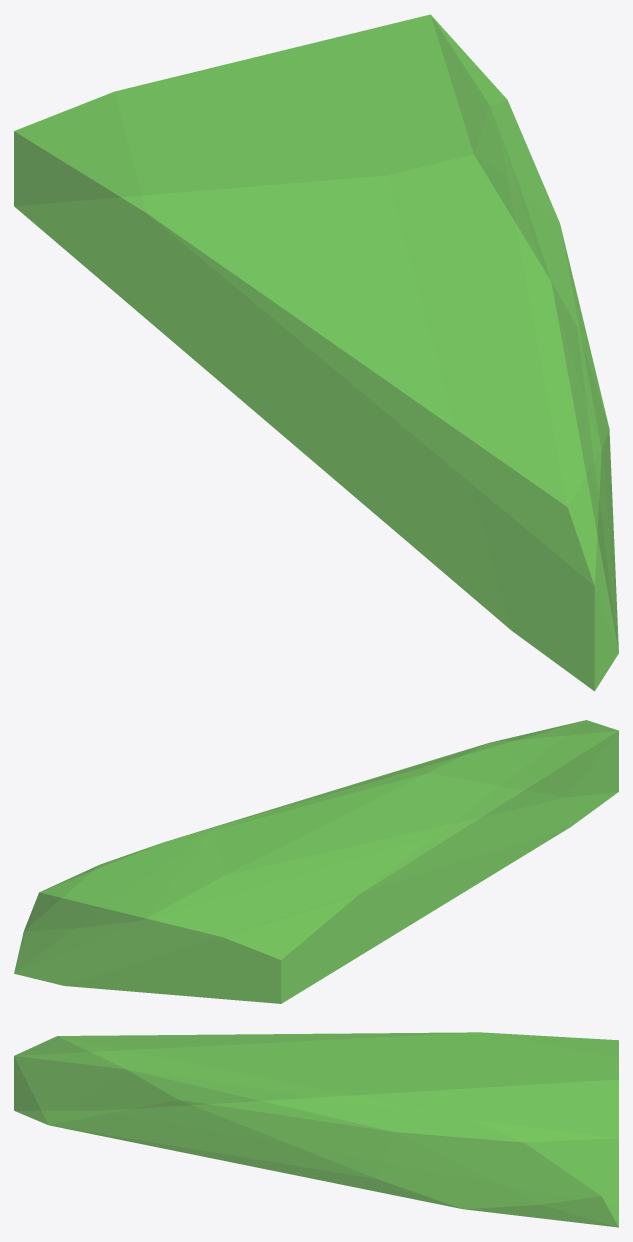
3 renders of one model, top to bottom at view 1: azimuth 30°, elevation 25°; view 2: azimuth 150°, elevation 25°; view 3: azimuth 270°, elevation 25°, orthographic. The views are drawn at different scales.
Parts seen in each view (by area): view 1: Shape_IndexedFaceSet.063_Shape_IndexedFaceSet.2002; view 2: Shape_IndexedFaceSet.063_Shape_IndexedFaceSet.2002; view 3: Shape_IndexedFaceSet.063_Shape_IndexedFaceSet.2002.
Boxes of the visible parts, left/top/right/bottom form: Shape_IndexedFaceSet.063_Shape_IndexedFaceSet.2002: left=14, top=14, right=618, bottom=691; Shape_IndexedFaceSet.063_Shape_IndexedFaceSet.2002: left=14, top=720, right=618, bottom=1003; Shape_IndexedFaceSet.063_Shape_IndexedFaceSet.2002: left=14, top=1032, right=618, bottom=1227.
Bounding box in the file's own units: 0.0844 × 0.0264 × 0.1847.
